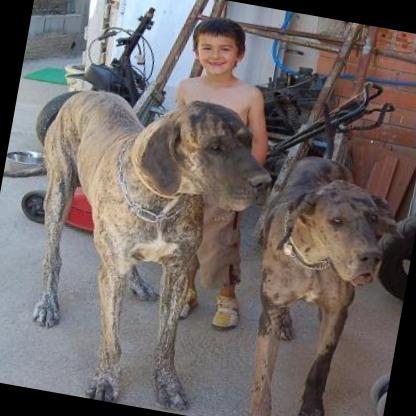Great_Dane: (0, 73, 284, 416), (220, 143, 396, 416)
